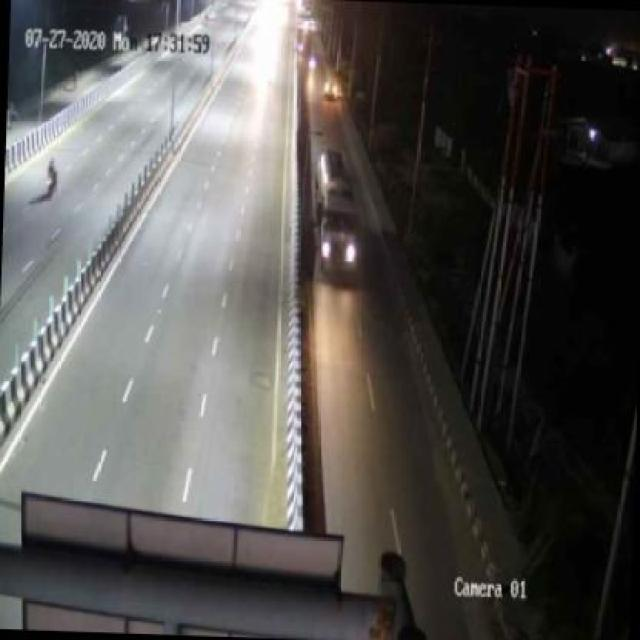car: (323, 68, 340, 104)
